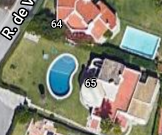pool: (126, 26, 152, 56), (52, 58, 70, 92)
